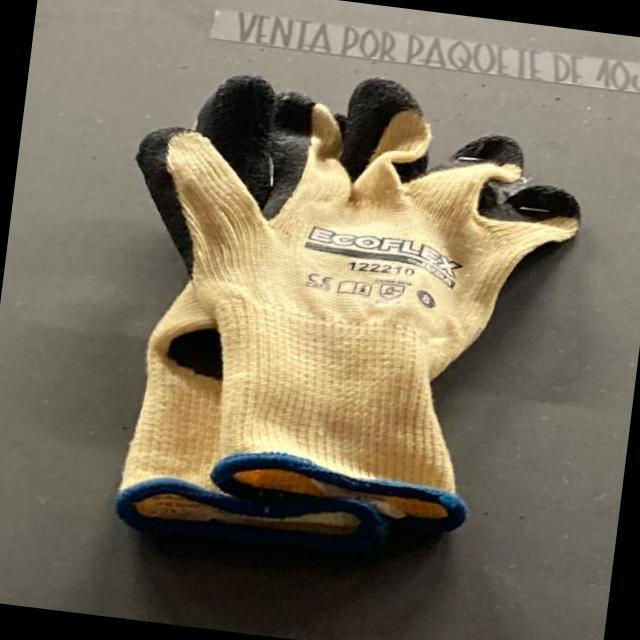glove: (102, 77, 588, 536)
